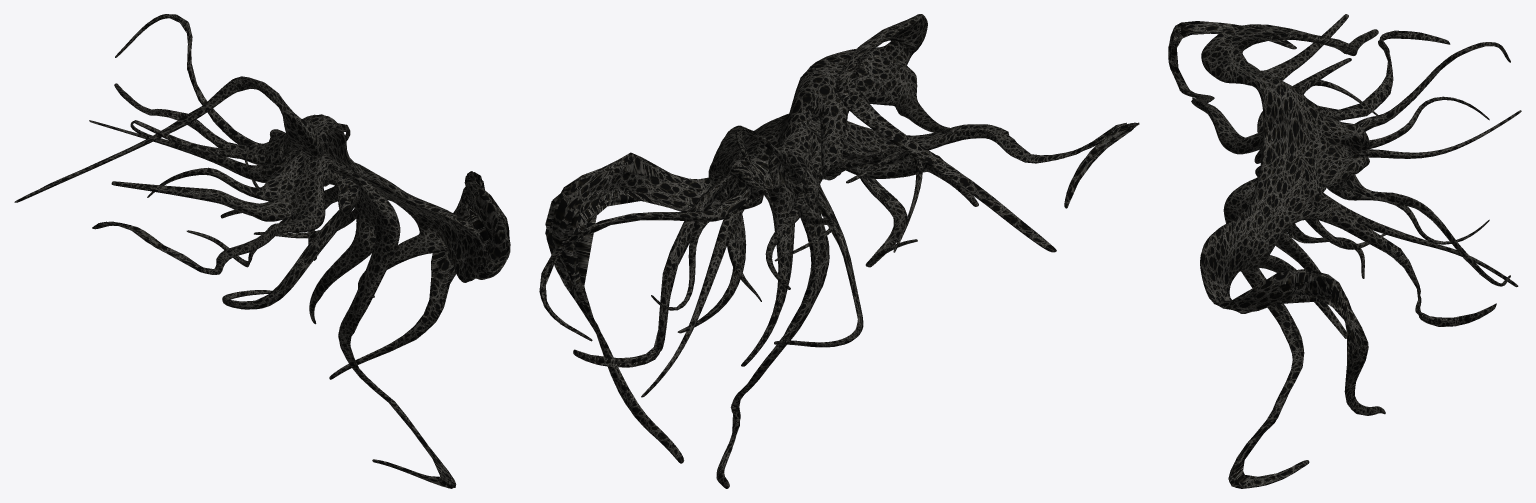
Rendered from dead-battlecrab.glb.
3 views of the same model, side by side, from view 1: azimuth 30°, elevation 25°; view 2: azimuth 150°, elevation 25°; view 3: azimuth 270°, elevation 25° (orthographic). The views are drawn at different scales.
Visible parts, largest first — view 1: battlecrab; view 2: battlecrab; view 3: battlecrab.
Part boxes in pixels (left/top/right/bottom): battlecrab: left=14, top=14, right=510, bottom=488; battlecrab: left=539, top=14, right=1139, bottom=488; battlecrab: left=1168, top=14, right=1521, bottom=488.
Bounding box in the file's own units: 873 × 772 × 632.
1 material, 1 textured.
